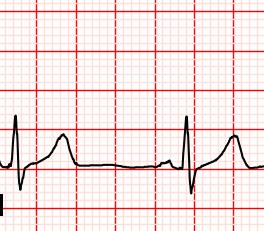LVH: (39, 132, 88, 172), (211, 132, 257, 171)
ST Depression: (178, 161, 204, 197), (4, 162, 29, 192)
